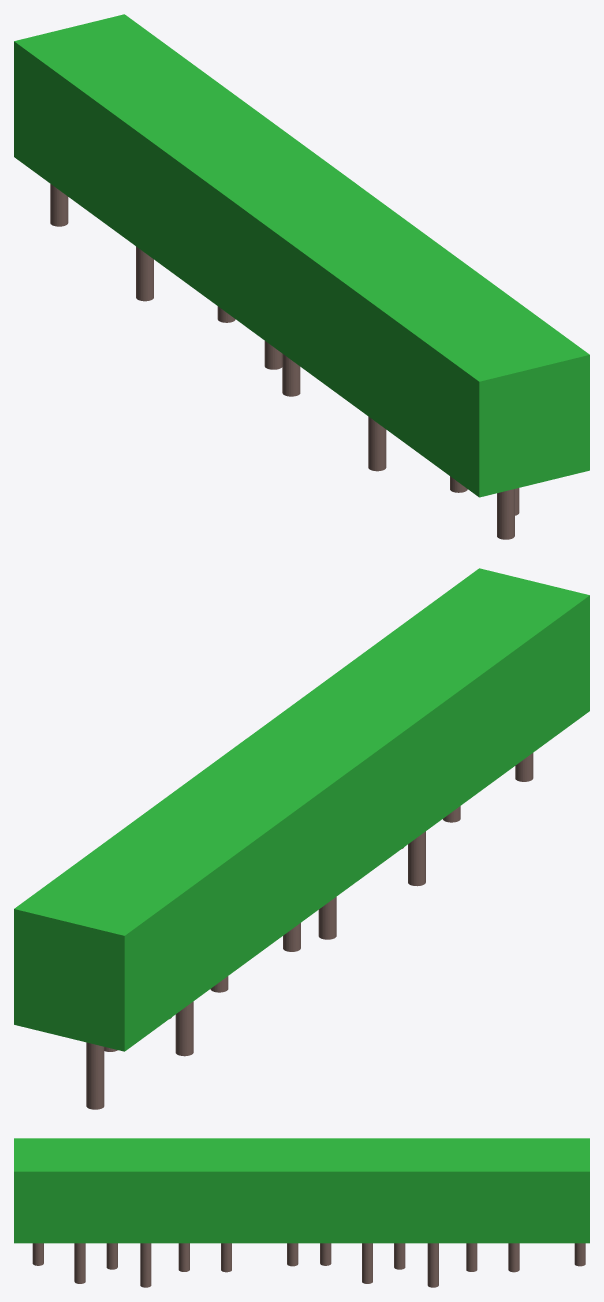
The model's file is arbustoB1.glb.
3 views of the same model, one above another, from view 1: azimuth 30°, elevation 25°; view 2: azimuth 150°, elevation 25°; view 3: azimuth 270°, elevation 25° (orthographic). The views are drawn at different scales.
Visible parts, largest first — view 1: Cube.041, Cube.039, Cylinder.025, Cylinder.029, Cylinder.018, Cylinder.024, Cylinder.017; view 2: Cube.039, Cube.041, Cylinder.017, Cylinder.018, Cylinder.025; view 3: Cube.039, Cube.041, Cylinder.021, Cylinder.028, Cylinder.027, Cylinder.020, Cylinder.016, Cylinder.025, Cylinder.018, Cylinder.023, Cylinder.019, Cylinder.026 (+4 smaller).
Part boxes in pixels (x1,y1,x2,y2): Cube.041: (246,184,589,497); Cube.039: (14,14,356,326); Cylinder.025: (368,416,386,471); Cylinder.029: (497,489,514,539); Cylinder.018: (136,246,153,301); Cylinder.024: (282,353,300,396); Cylinder.017: (50,184,68,226); Cube.039: (14,739,356,1051); Cube.041: (246,568,589,881); Cylinder.017: (86,1042,104,1109); Cylinder.018: (175,1001,193,1056); Cylinder.025: (408,831,425,886); Cube.039: (301,1138,589,1243); Cube.041: (14,1138,302,1243); Cylinder.021: (427,1243,438,1287); Cylinder.028: (140,1243,151,1287); Cylinder.027: (74,1243,85,1283); Cylinder.020: (362,1243,372,1283); Cylinder.016: (508,1243,519,1272); Cylinder.025: (178,1243,189,1271); Cylinder.018: (466,1243,477,1271); Cylinder.023: (221,1243,231,1272); Cylinder.019: (394,1243,405,1269); Cylinder.026: (106,1243,117,1269).
Bounding box in the file's own units: 3.43 × 5.77 × 24.97.
